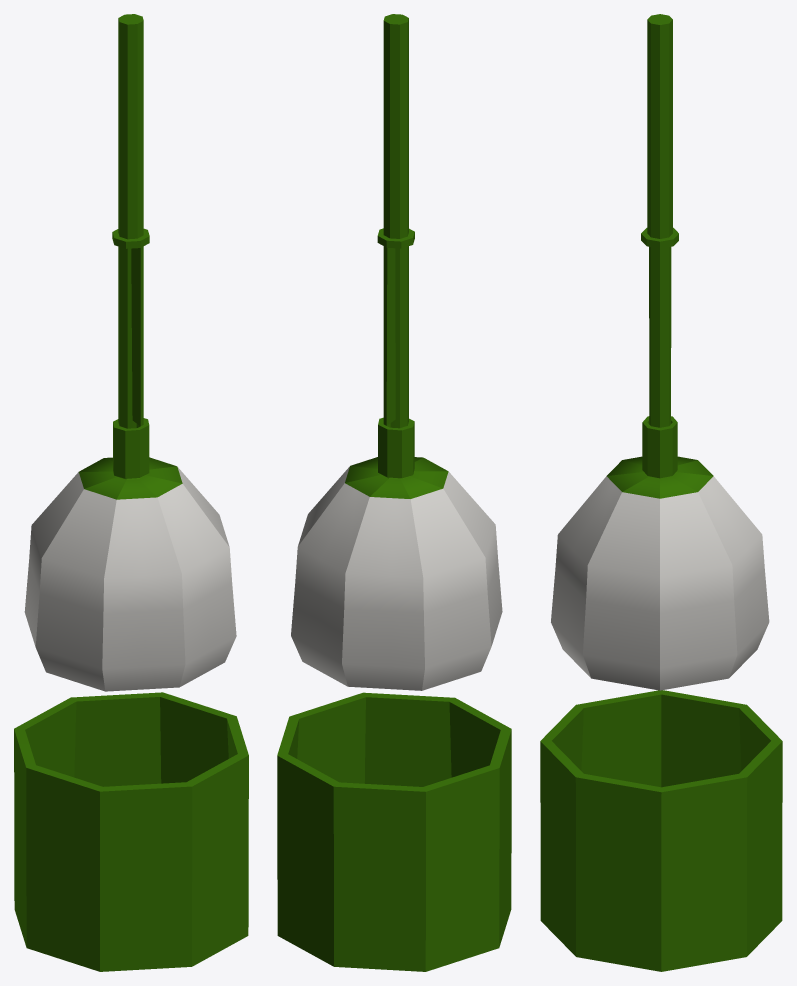
Rendered from cepillo para baño.fbx.
3 renders of one model, left to right at view 1: azimuth 30°, elevation 25°; view 2: azimuth 150°, elevation 25°; view 3: azimuth 270°, elevation 25°, orthographic.
Visible parts, largest first — view 1: pCylinder4, pCylinder5; view 2: pCylinder4, pCylinder5; view 3: pCylinder4, pCylinder5.
Part boxes in pixels (left/top/right/bottom): pCylinder4: left=14, top=692, right=248, bottom=971; pCylinder5: left=24, top=14, right=236, bottom=691; pCylinder4: left=277, top=692, right=511, bottom=971; pCylinder5: left=291, top=14, right=502, bottom=690; pCylinder4: left=540, top=690, right=782, bottom=971; pCylinder5: left=551, top=14, right=769, bottom=690.
Size of the model in its own units: 1.52 by 6.25 by 1.52.
